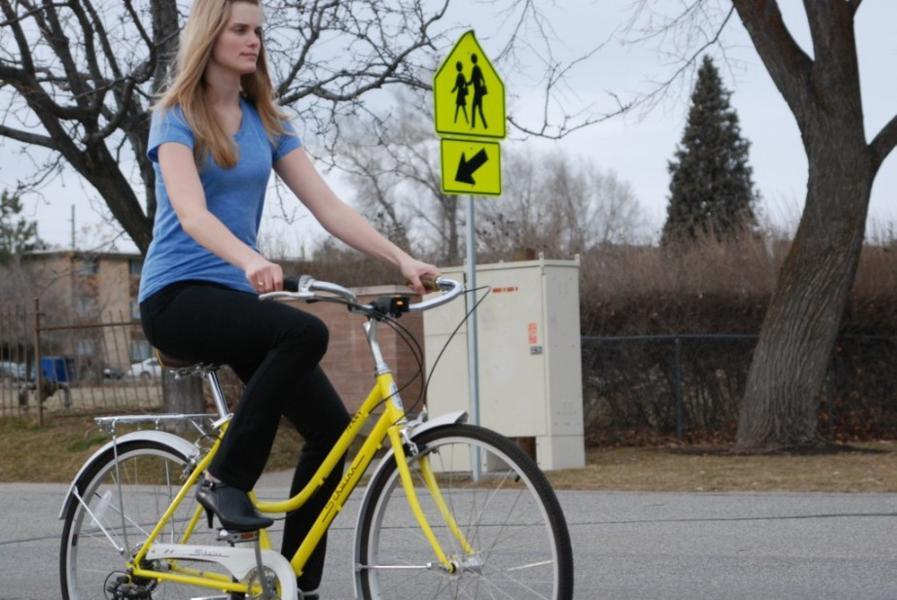person: (138, 3, 443, 600)
